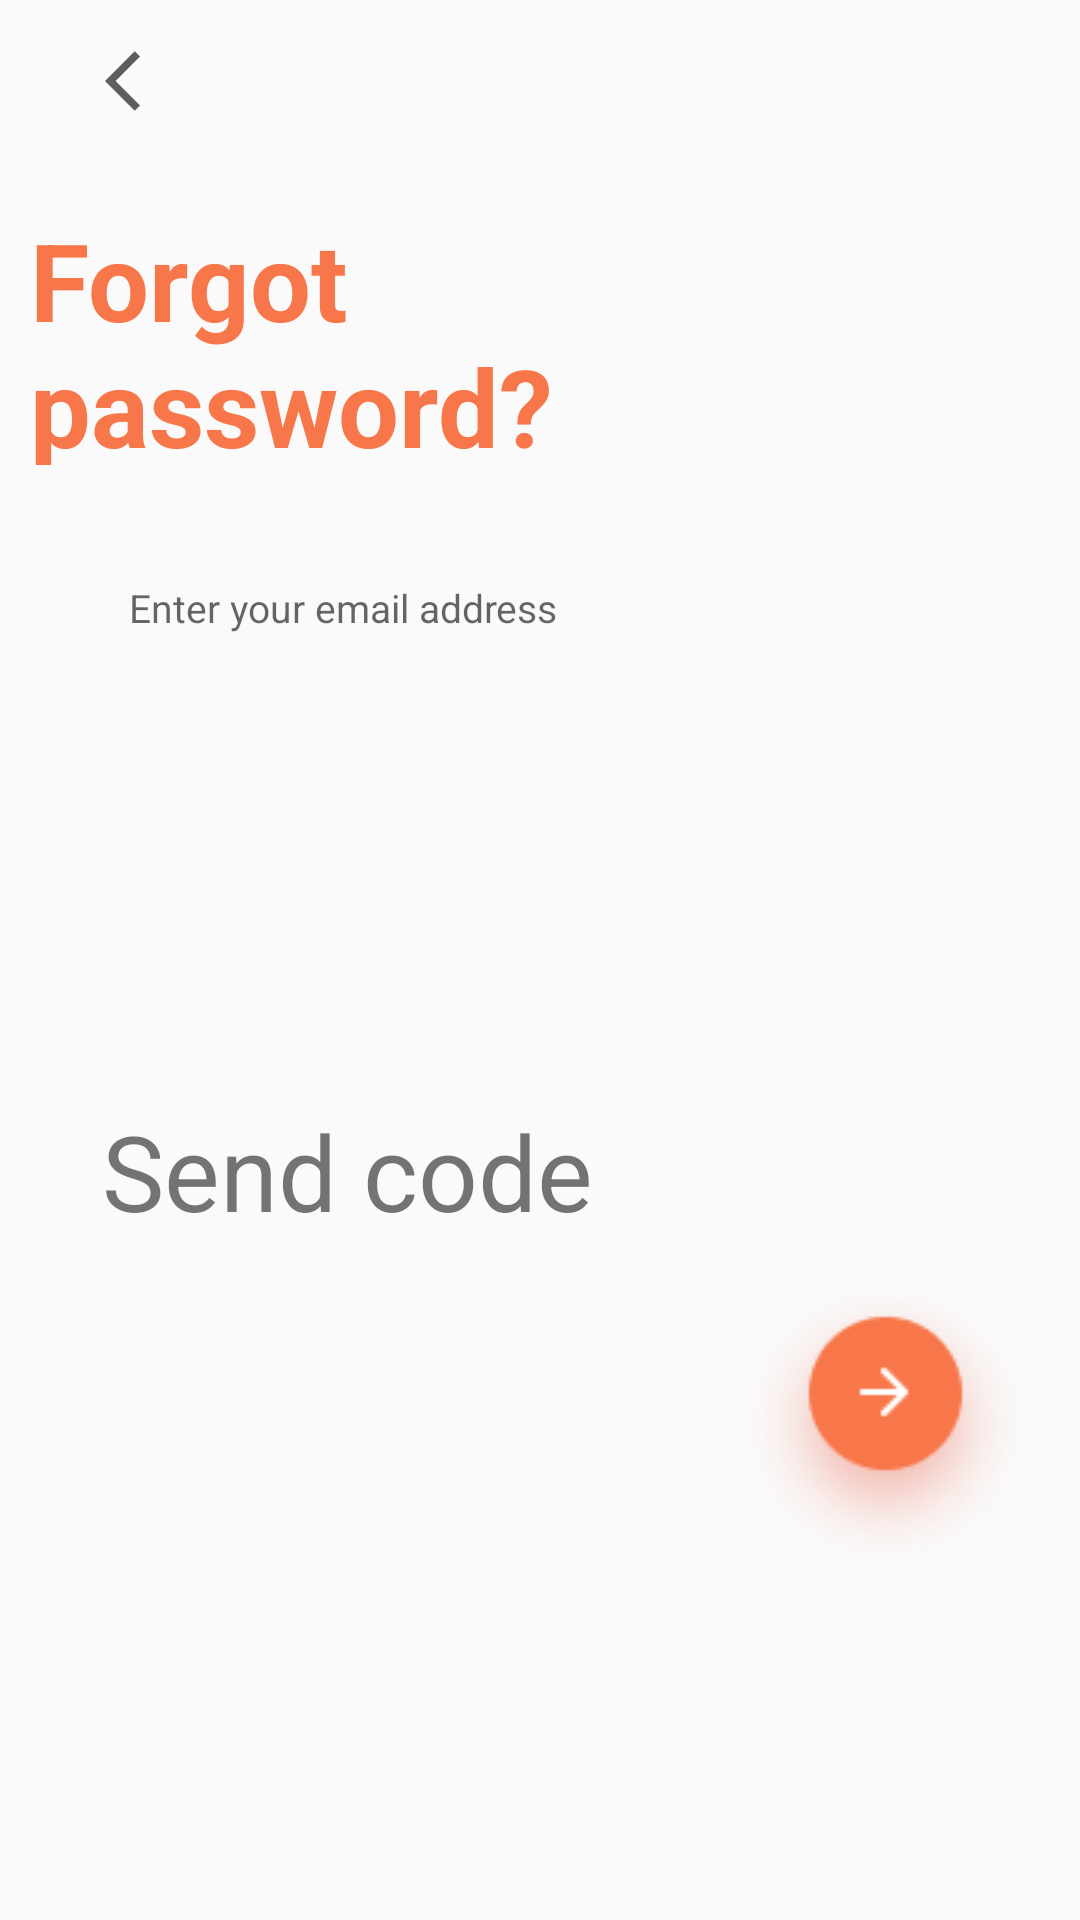

Where icons sit on this 1080x1920 app screen, as bbox=[x1, y1, x2, y2]:
back: bbox=[105, 51, 140, 111]
next: bbox=[796, 1316, 975, 1513]
